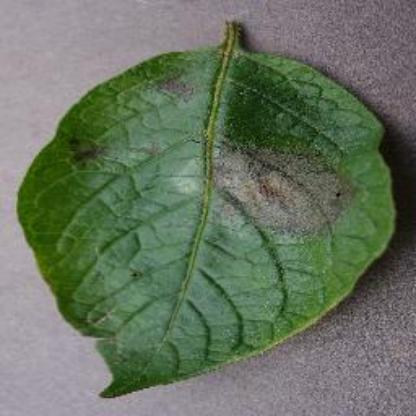Late-Blight: (13, 14, 401, 406)
